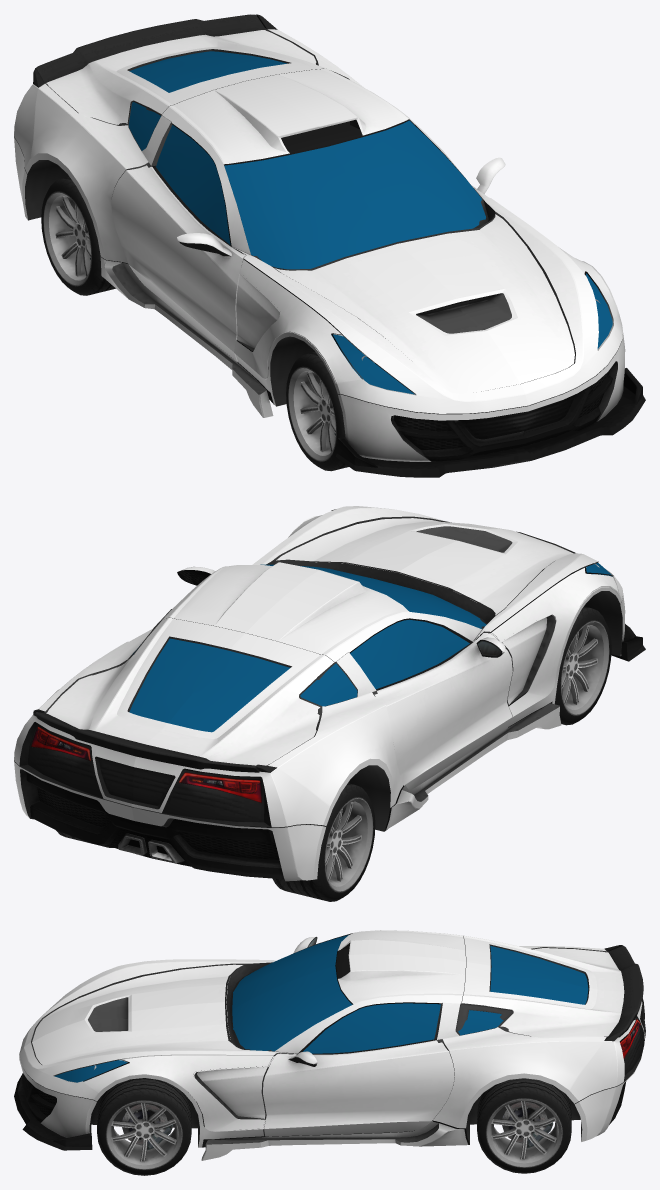
Rendered from Car19.fbx.
3 views of the same model, one above another, from view 1: azimuth 30°, elevation 25°; view 2: azimuth 150°, elevation 25°; view 3: azimuth 270°, elevation 25° (orthographic). The views are drawn at different scales.
Parts seen in each view (by area): view 1: Body, Hood, Front_Glass_, BumperF, Roof, Trunk, DC3_Sport_8_Door_R_1, Wing_1, DC3_Sport_8_Glass_FR_1, DC3_Sport_8_Sidepanel_R_2, Metal_2, Metal_3 (+7 smaller); view 2: Body, Trunk, Roof, BumperB, Hood, DC3_Sport_8_Door_R_1, Back_Glass_, Wing_1, DC3_Sport_8_Glass_FR_1, Metal_2, Metal_3, DC3_Sport_8_Sidepanel_R_2 (+7 smaller); view 3: Body, DC3_Sport_8_Door_R, Hood, Trunk, Roof, Front_Glass_, Wing, DC3_Sport_8_Glass_FR, BumperF, Back_Glass_, Tire_1, Tire (+8 smaller).
Part boxes in pixels (x1,y1,x2,y2): Body: (14,14,622,414); Hood: (275,214,574,393); Front_Glass_: (224,120,485,269); BumperF: (335,333,645,477); Roof: (162,68,470,254); Trunk: (35,14,324,124); DC3_Sport_8_Door_R_1: (111,165,245,362); Wing_1: (234,259,361,383); DC3_Sport_8_Glass_FR_1: (155,125,230,244); DC3_Sport_8_Sidepanel_R_2: (100,257,273,417); Metal_2: (44,192,91,285); Metal_3: (288,368,335,460); Body: (14,506,622,831); Trunk: (35,617,334,772); Roof: (162,562,481,662); BumperB: (14,760,325,881); Hood: (276,518,573,615); DC3_Sport_8_Door_R_1: (374,633,512,789); Back_Glass_: (129,638,289,732); Wing_1: (490,567,619,716); DC3_Sport_8_Glass_FR_1: (350,619,469,689); Metal_2: (325,798,372,891); Metal_3: (561,622,608,714); DC3_Sport_8_Sidepanel_R_2: (385,703,561,829); Body: (19,945,645,1147); DC3_Sport_8_Door_R: (263,1039,454,1136); Hood: (32,964,243,1065); Trunk: (462,935,643,1038); Roof: (275,930,466,1054); Front_Glass_: (232,934,352,1051); Wing: (84,1055,274,1131); DC3_Sport_8_Glass_FR: (303,1003,440,1053); BumperF: (14,1056,96,1150); Back_Glass_: (490,946,588,1004); Tire_1: (97,1078,191,1175); Tire: (477,1078,571,1173).
Size of the model in its own units: 372 by 235 by 792.
